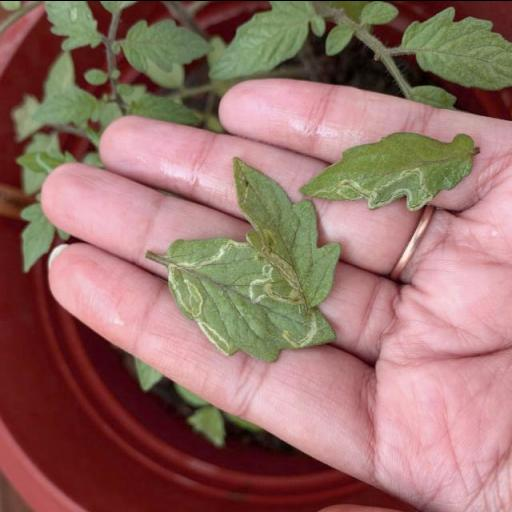disease_tomato: (162, 236, 338, 362), (302, 128, 476, 210)
